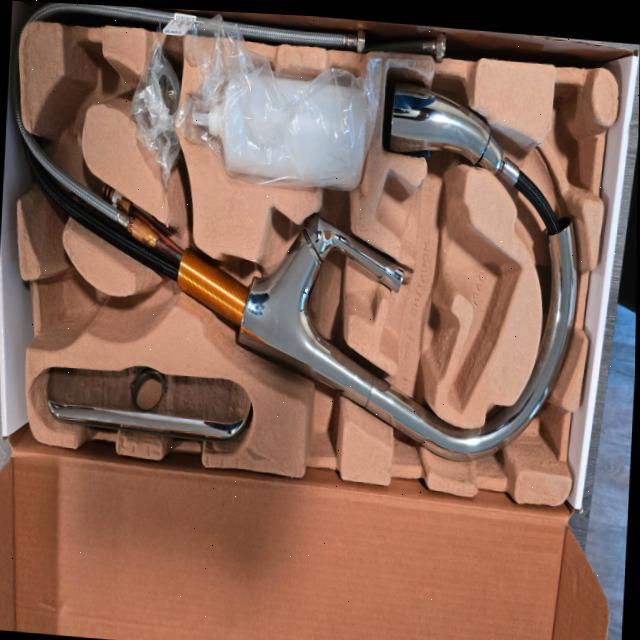1: (20, 84, 577, 467)
2m: (374, 172, 520, 412)
3: (188, 70, 366, 186)
4: (45, 368, 249, 438)
5m: (44, 272, 96, 342)
6: (126, 37, 182, 197)
7m: (49, 42, 117, 140)
